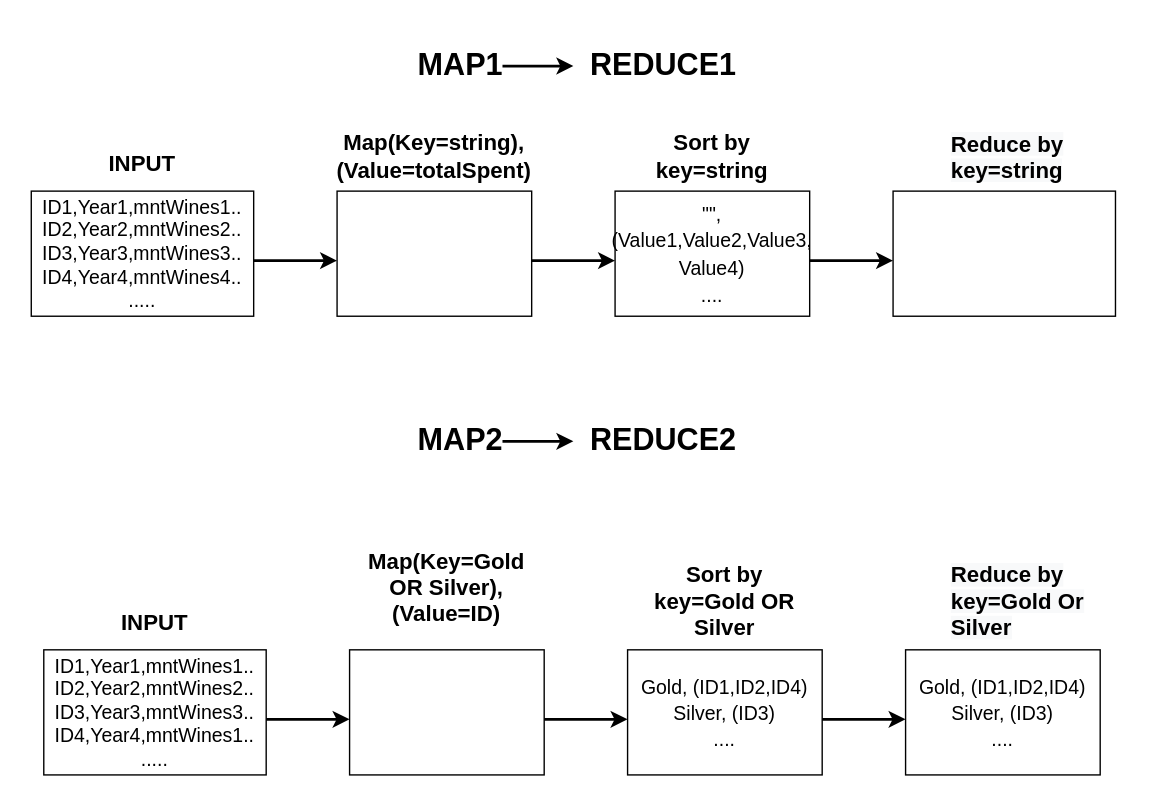
This 1166x802 diagram has some shape labels left out. The centre of each missing label's shape, as x and y in pixels:
"", Value1 "", Value2 "", Value3 "", Value4 ....: [434,253]
"Average,Count", (((Value1+Value2+Value3 +Value4)/Counter), Count) ....: [1003,253]
Gold, ID1 Gold, ID2 Silver, ID3 Gold, ID4 ....: [446,711]
